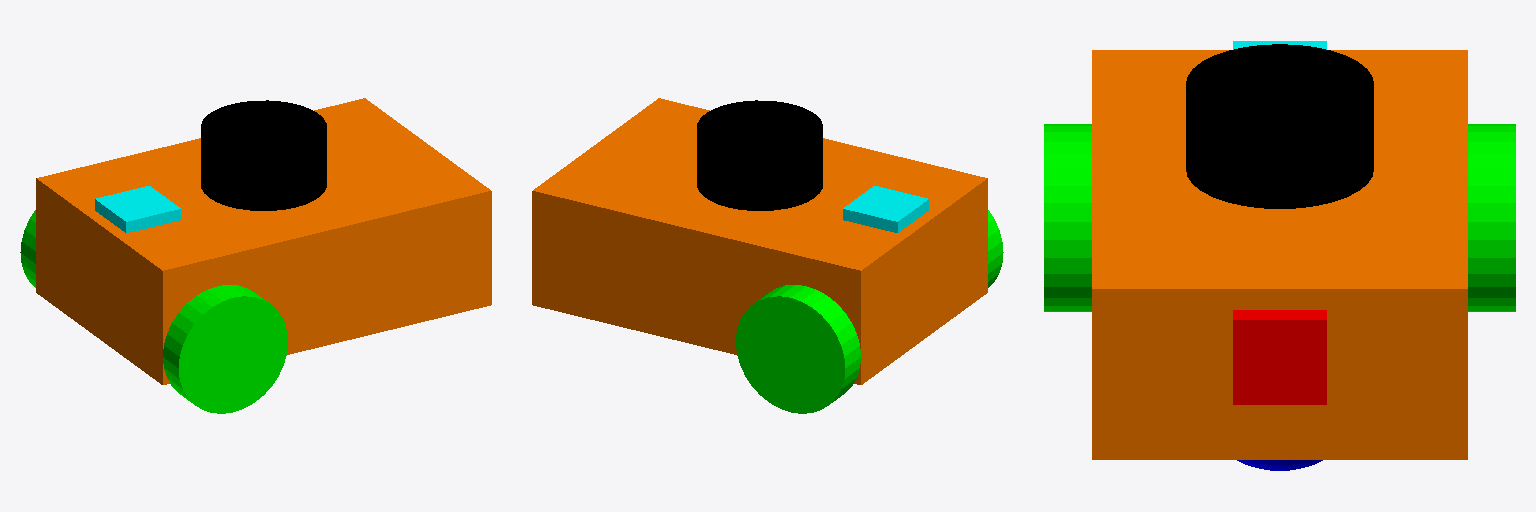
URDF robot description (differential_drive_robot):
<?xml version="1.0" ?>
<!-- =================================================================================== -->
<!-- |    This document was autogenerated by xacro from ./src/gazebo_differential_drive_robot/urdf/robot.xacro | -->
<!-- |    EDITING THIS FILE BY HAND IS NOT RECOMMENDED                                 | -->
<!-- =================================================================================== -->
<robot name="differential_drive_robot">
  <!-- Links -->
  <!-- Virtual Base Footprint Link -->
  <link name="base_footprint"/>
  <!-- Body Link -->
  <link name="base_link">
    <visual>
      <origin rpy="0.0 0.0 0.0" xyz="0.0 0.0 0.0"/>
      <geometry>
        <box size="0.3 0.2 0.1"/>
      </geometry>
      <material name="body_material">
        <color rgba="1.0 0.5 0.00 1.0"/>
      </material>
    </visual>
    <collision>
      <origin rpy="0.0 0.0 0.0" xyz="0.0 0.0 0.0"/>
      <geometry>
        <box size="0.3 0.2 0.1"/>
      </geometry>
    </collision>
    <inertial>
      <mass value="10"/>
      <inertia ixx="0.19625000000000004" ixy="0.0" ixz="0.0" iyy="0.3925" iyz="0" izz="0.51025"/>
      <origin rpy="0 0 0" xyz="0 0 0"/>
    </inertial>
  </link>
  <!-- Left Wheel -->
  <link name="left_wheel_link">
    <visual>
      <origin rpy="1.570795 0.0 0.0" xyz="0.0 0.0 0.0"/>
      <geometry>
        <cylinder length="0.025" radius="0.05"/>
      </geometry>
      <material name="left_wheel_material">
        <color rgba="0.0 1.0 0.0 1.0"/>
      </material>
    </visual>
    <collision>
      <origin rpy="1.570795 0.0 0.0" xyz="0.0 0.0 0.0"/>
      <geometry>
        <cylinder length="0.025" radius="0.05"/>
      </geometry>
    </collision>
    <inertial>
      <mass value="2"/>
      <inertia ixx="0.00011965050131835945" ixy="0.0" ixz="0.0" iyy="0.00011965050131835945" iyz="0" izz="0.0002208932332031251"/>
      <origin rpy="1.570795 0.0 0.0" xyz="0.0 0.0 0.0"/>
    </inertial>
  </link>
  <!-- Right Wheel -->
  <link name="right_wheel_link">
    <visual>
      <origin rpy="1.570795 0.0 0.0" xyz="0.0 0.0 0.0"/>
      <geometry>
        <cylinder length="0.025" radius="0.05"/>
      </geometry>
      <material name="right_wheel_material">
        <color rgba="0.0 1.0 0.0 1.0"/>
      </material>
    </visual>
    <collision>
      <origin rpy="1.570795 0.0 0.0" xyz="0.0 0.0 0.0"/>
      <geometry>
        <cylinder length="0.025" radius="0.05"/>
      </geometry>
    </collision>
    <inertial>
      <mass value="2"/>
      <inertia ixx="0.00011965050131835945" ixy="0.0" ixz="0.0" iyy="0.00011965050131835945" iyz="0" izz="0.0002208932332031251"/>
      <origin rpy="1.570795 0.0 0.0" xyz="0.0 0.0 0.0"/>
    </inertial>
  </link>
  <!-- Caster Wheel -->
  <link name="caster_link">
    <visual>
      <origin rpy="0.0 0.0 0.0" xyz="0.0 0.0 0.0"/>
      <geometry>
        <sphere radius="0.05"/>
      </geometry>
      <material name="caster_material">
        <color rgba="0.0 0.0 1.0 1.0"/>
      </material>
    </visual>
    <collision>
      <origin rpy="0.0 0.0 0.0" xyz="0.0 0.0 0.0"/>
      <geometry>
        <sphere radius="0.05"/>
      </geometry>
    </collision>
    <inertial>
      <mass value="0.5"/>
      <inertia ixx="5.235987750000002e-08" ixy="0.0" ixz="0.0" iyy="5.235987750000002e-08" iyz="0" izz="5.235987750000002e-08"/>
      <origin rpy="0 0 0" xyz="0 0 0"/>
    </inertial>
  </link>
  <!-- Lidar -->
  <link name="lidar_link">
    <visual>
      <origin rpy="0.0 0.0 0.0" xyz="0.0 0.0 0.025"/>
      <geometry>
        <cylinder length="0.05" radius="0.05"/>
      </geometry>
      <material name="lidar_material">
        <color rgba="0.0 0.0 0.0 1.0"/>
      </material>
    </visual>
    <collision>
      <origin rpy="0.0 0.0 0.0" xyz="0.0 0.0 0.025"/>
      <geometry>
        <cylinder length="0.05" radius="0.05"/>
      </geometry>
    </collision>
    <inertial>
      <mass value="0.0001"/>
      <inertia ixx="0.0001" ixy="0.0" ixz="0.0" iyy="0.0001" iyz="0" izz="0.0001"/>
      <origin rpy="0 0 0" xyz="0 0 0"/>
    </inertial>
  </link>
  <link name="camera_link">
    <visual>
      <geometry>
        <box size="0.025 0.05 0.05"/>
      </geometry>
      <material name="camera_material">
        <color rgba="1.0 0.0 0.0 1.0"/>
      </material>
    </visual>
    <inertial>
      <mass value="0.0001"/>
      <inertia ixx="0.0001" ixy="0.0" ixz="0.0" iyy="0.0001" iyz="0" izz="0.0001"/>
      <origin rpy="0 0 0" xyz="0 0 0"/>
    </inertial>
  </link>
  <link name="camera_link_optical"/>
  <link name="imu_link">
    <visual>
      <geometry>
        <box size="0.05 0.05 0.02"/>
      </geometry>
      <material name="imu_material">
        <color rgba="0.0 1.0 1.0 1.0"/>
      </material>
    </visual>
    <inertial>
      <mass value="0.0001"/>
      <inertia ixx="0.0001" ixy="0.0" ixz="0.0" iyy="0.0001" iyz="0" izz="0.0001"/>
      <origin rpy="0 0 0" xyz="0 0 0"/>
    </inertial>
  </link>
  <!-- Joints -->
  <!-- Base Link Joint -->
  <joint name="base_link_joint" type="fixed">
    <parent link="base_footprint"/>
    <child link="base_link"/>
    <origin rpy="0 0 0" xyz="0 0 0.07500000000000001"/>
  </joint>
  <!-- Left Wheel Joint -->
  <joint name="left_wheel_joint" type="continuous">
    <origin rpy="0 0 0" xyz="-0.09999999999999999 0.1125 -0.025"/>
    <parent link="base_link"/>
    <child link="left_wheel_link"/>
    <axis xyz="0 1 0"/>
    <limit effort="100" velocity="10.0"/>
    <dynamics damping="0.1" friction="0.1"/>
  </joint>
  <!-- Right Wheel Joint -->
  <joint name="right_wheel_joint" type="continuous">
    <origin rpy="0 0 0" xyz="-0.09999999999999999 -0.1125 -0.025"/>
    <parent link="base_link"/>
    <child link="right_wheel_link"/>
    <axis xyz="0 1 0"/>
    <limit effort="100" velocity="10.0"/>
    <dynamics damping="0.1" friction="0.1"/>
  </joint>
  <!-- Caster Wheel Joint (fixed) -->
  <joint name="caster_joint" type="fixed">
    <origin rpy="0 0 0" xyz="0.09999999999999999 0 -0.025"/>
    <parent link="base_link"/>
    <child link="caster_link"/>
  </joint>
  <!-- Lidar Joint (fixed) -->
  <joint name="lidar_joint" type="fixed">
    <origin rpy="0 0 0" xyz="0 0 0.05"/>
    <parent link="base_link"/>
    <child link="lidar_link"/>
    <axis rpt="0 0 0" xyz="0 1 0"/>
  </joint>
  <joint name="camera_joint" type="fixed">
    <parent link="base_link"/>
    <child link="camera_link"/>
    <origin rpy="0 0 0" xyz="0.15 0 0.0125"/>
  </joint>
  <joint name="camera_optical_joint" type="fixed">
    <parent link="camera_link"/>
    <child link="camera_link_optical"/>
    <origin rpy="-1.5707963267948966 0 -1.5707963267948966" xyz="0 0 0"/>
  </joint>
  <joint name="imu_joint" type="fixed">
    <parent link="base_link"/>
    <child link="imu_link"/>
    <origin rpy="0 0 0" xyz="-0.11499999999999999 0 0.05"/>
  </joint>
  <!-- Gazebo Parameters -->
  <gazebo reference="base_link">
    <mu1>1.0</mu1>
    <mu2>1.0</mu2>
  </gazebo>
  <gazebo reference="right_wheel_link">
    <mu1>1.0</mu1>
    <mu2>1.0</mu2>
  </gazebo>
  <gazebo reference="left_wheel_link">
    <mu1>1.0</mu1>
    <mu2>1.0</mu2>
  </gazebo>
  <gazebo reference="caster_link">
    <mu1>0.000001</mu1>
    <mu2>0.000001</mu2>
  </gazebo>
  <gazebo reference="camera_link">
    <mu1>0.000001</mu1>
    <mu2>0.000001</mu2>
  </gazebo>
  <gazebo reference="imu_link">
    <mu1>0.000001</mu1>
    <mu2>0.000001</mu2>
  </gazebo>
  <!-- Gazebo plugins -->
  <!--
    <gazebo>
        <plugin filename="gz-sim-diff-drive-system" name="gz::sim::systems::DiffDrive">
            <right_joint>right_wheel_joint</right_joint>
            <left_joint>left_wheel_joint</left_joint>
            <wheel_separation>${wheel_separation}</wheel_separation>
            <wheel_radius>${wheel_radius}</wheel_radius>
            <max_linear_acceleration>${max_linear_acceleration}</max_linear_acceleration>
            <topic>/cmd_vel</topic>
            <tf_topic>/tf</tf_topic>
            <odom_topic>/odom</odom_topic>
            <frame_id>odom</frame_id>
            <odom_publish_frequency>100</odom_publish_frequency>
            <publish_odom_tf>false</publish_odom_tf>
            <child_frame_id>base_footprint</child_frame_id>
        </plugin>

        <plugin filename="gz-sim-joint-state-publisher-system" name="gz::sim::systems::JointStatePublisher">
            <topic>joint_states</topic>
            <joint_name>right_wheel_joint</joint_name>
            <joint_name>left_wheel_joint</joint_name>
            <update_rate>50</update_rate>
        </plugin>
    </gazebo>
    -->
  <gazebo reference="lidar_link">
    <!-- Required: 'gpu_ray' is optimized for Harmonic/Ogre2 -->
    <sensor name="lidar_link" type="gpu_ray">
      <pose relative_to="lidar_link">0 0 0.025 0 0 0</pose>
      <topic>/scan</topic>
      <gz_frame_id>lidar_link</gz_frame_id>
      <update_rate>10.0</update_rate>
      <always_on>1</always_on>
      <visualize>true</visualize>
      <ray>
        <scan>
          <horizontal>
            <samples>360</samples>
            <resolution>1</resolution>
            <min_angle>-3.14159</min_angle>
            <max_angle>3.14159</max_angle>
          </horizontal>
          <!-- Explicitly force a single vertical slice for 2D operation -->
          <vertical>
            <samples>1</samples>
            <resolution>1</resolution>
            <min_angle>0.0</min_angle>
            <max_angle>0.0</max_angle>
          </vertical>
        </scan>
        <range>
          <min>0.12</min>
          <max>12.0</max>
          <resolution>0.01</resolution>
        </range>
        <!-- Optional noise modeling mimicking real-world data -->
        <noise>
          <type>gaussian</type>
          <mean>0.0</mean>
          <stddev>0.01</stddev>
        </noise>
      </ray>
      <plugin filename="gz-sim-sensors-system" name="gz::sim::systems::Sensors">
        <render_type>ogre2</render_type>
      </plugin>
    </sensor>
  </gazebo>
  <gazebo reference="camera_link">
    <sensor name="camera" type="camera">
      <pose> 0 0 0 0 0 0 </pose>
      <visualize>true</visualize>
      <update_rate>10</update_rate>
      <camera>
        <horizontal_fov>1.089</horizontal_fov>
        <image>
          <format>R8G8B8</format>
          <width>640</width>
          <height>480</height>
        </image>
        <clip>
          <near>0.05</near>
          <far>8.0</far>
        </clip>
      </camera>
      <topic>camera/image_raw</topic>
      <gz_frame_id>camera_link_optical</gz_frame_id>
    </sensor>
  </gazebo>
  <gazebo reference="imu_link">
    <sensor name="imu" type="imu">
      <always_on>true</always_on>
      <update_rate>100</update_rate>
      <visualize>true</visualize>
      <topic>imu</topic>
    </sensor>
  </gazebo>
  <ros2_control name="GazeboSystem" type="system">
    <hardware>
      <plugin>gz_ros2_control/GazeboSimSystem</plugin>
    </hardware>
    <joint name="left_wheel_joint">
      <command_interface name="velocity"/>
      <state_interface name="position"/>
      <state_interface name="velocity"/>
    </joint>
    <joint name="right_wheel_joint">
      <command_interface name="velocity"/>
      <state_interface name="position"/>
      <state_interface name="velocity"/>
    </joint>
    <sensor name="imu_sensor">
      <state_interface name="orientation.x"/>
      <state_interface name="orientation.y"/>
      <state_interface name="orientation.z"/>
      <state_interface name="orientation.w"/>
      <state_interface name="angular_velocity.x"/>
      <state_interface name="angular_velocity.y"/>
      <state_interface name="angular_velocity.z"/>
      <state_interface name="linear_acceleration.x"/>
      <state_interface name="linear_acceleration.y"/>
      <state_interface name="linear_acceleration.z"/>
    </sensor>
  </ros2_control>
  <gazebo>
    <plugin filename="gz_ros2_control-system" name="gz_ros2_control::GazeboSimROS2ControlPlugin">
      <parameters>/home/ubuntu/roamer_ws/install/gazebo_differential_drive_robot/share/gazebo_differential_drive_robot/config/ros2_controllers.yaml</parameters>
    </plugin>
  </gazebo>
</robot>

--- Facts derived from the render (not from the file) ---
Views: 3 orthographic renders of the robot side by side, from view 1: azimuth 30°, elevation 25°; view 2: azimuth 150°, elevation 25°; view 3: azimuth 270°, elevation 25°.
Robot: differential_drive_robot — 9 links, 8 joints (2 continuous, 6 fixed); root link base_footprint; default pose: every joint at zero.
Links seen in each view (by area): view 1: base_link, lidar_link, right_wheel_link, imu_link, left_wheel_link; view 2: base_link, lidar_link, left_wheel_link, imu_link, right_wheel_link; view 3: base_link, lidar_link, left_wheel_link, right_wheel_link, camera_link, caster_link.
Boxes of the visible links, box(x1,y1,x2,y2) form: base_link: box(36, 98, 491, 384); lidar_link: box(201, 100, 326, 210); right_wheel_link: box(163, 285, 287, 413); imu_link: box(95, 186, 180, 232); left_wheel_link: box(20, 210, 35, 287); base_link: box(532, 98, 987, 384); lidar_link: box(697, 100, 822, 210); left_wheel_link: box(736, 285, 860, 413); imu_link: box(843, 186, 928, 232); right_wheel_link: box(988, 210, 1003, 287); base_link: box(1092, 50, 1467, 459); lidar_link: box(1186, 44, 1373, 208); left_wheel_link: box(1468, 124, 1515, 311); right_wheel_link: box(1044, 124, 1091, 311); camera_link: box(1233, 310, 1326, 404); caster_link: box(1237, 460, 1322, 470).
Bounding box of the posed robot: 0.3125 × 0.25 × 0.175 m (x, y, z).
Geometry: primitives only (box / cylinder / sphere), no mesh files.
